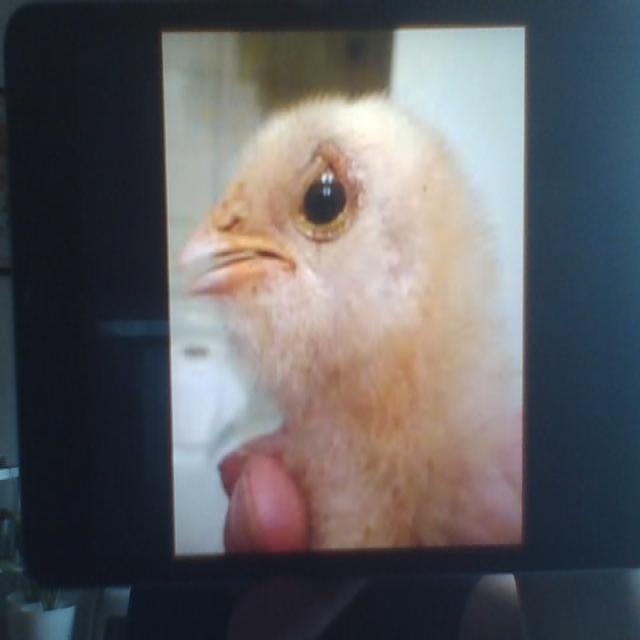Sick: (178, 99, 522, 554)
